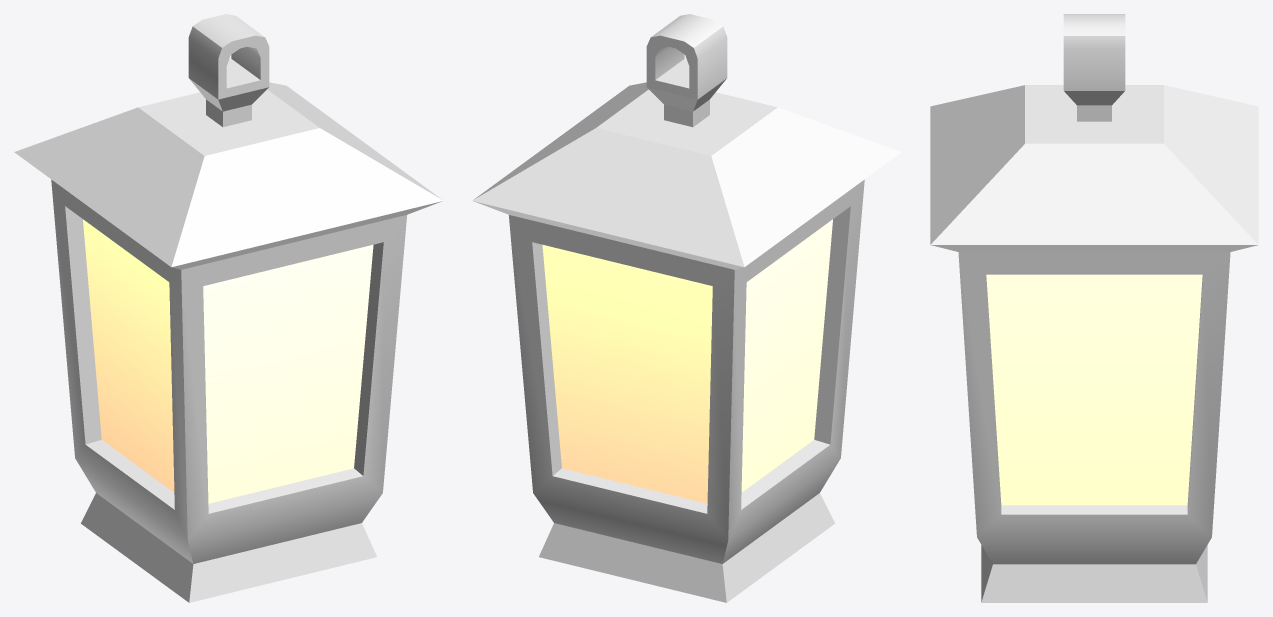
File: Fbx_Lantern.fbx
3 views of the same model, side by side, from view 1: azimuth 30°, elevation 25°; view 2: azimuth 150°, elevation 25°; view 3: azimuth 270°, elevation 25° (orthographic). The views are drawn at different scales.
Parts seen in each view (by area): view 1: Lantern; view 2: Lantern; view 3: Lantern.
Part boxes in pixels (<box>): Lantern: <box>14,14,443,602</box>; Lantern: <box>472,14,901,602</box>; Lantern: <box>930,14,1258,602</box>.
Bounding box in the file's own units: 121 × 217 × 121.
